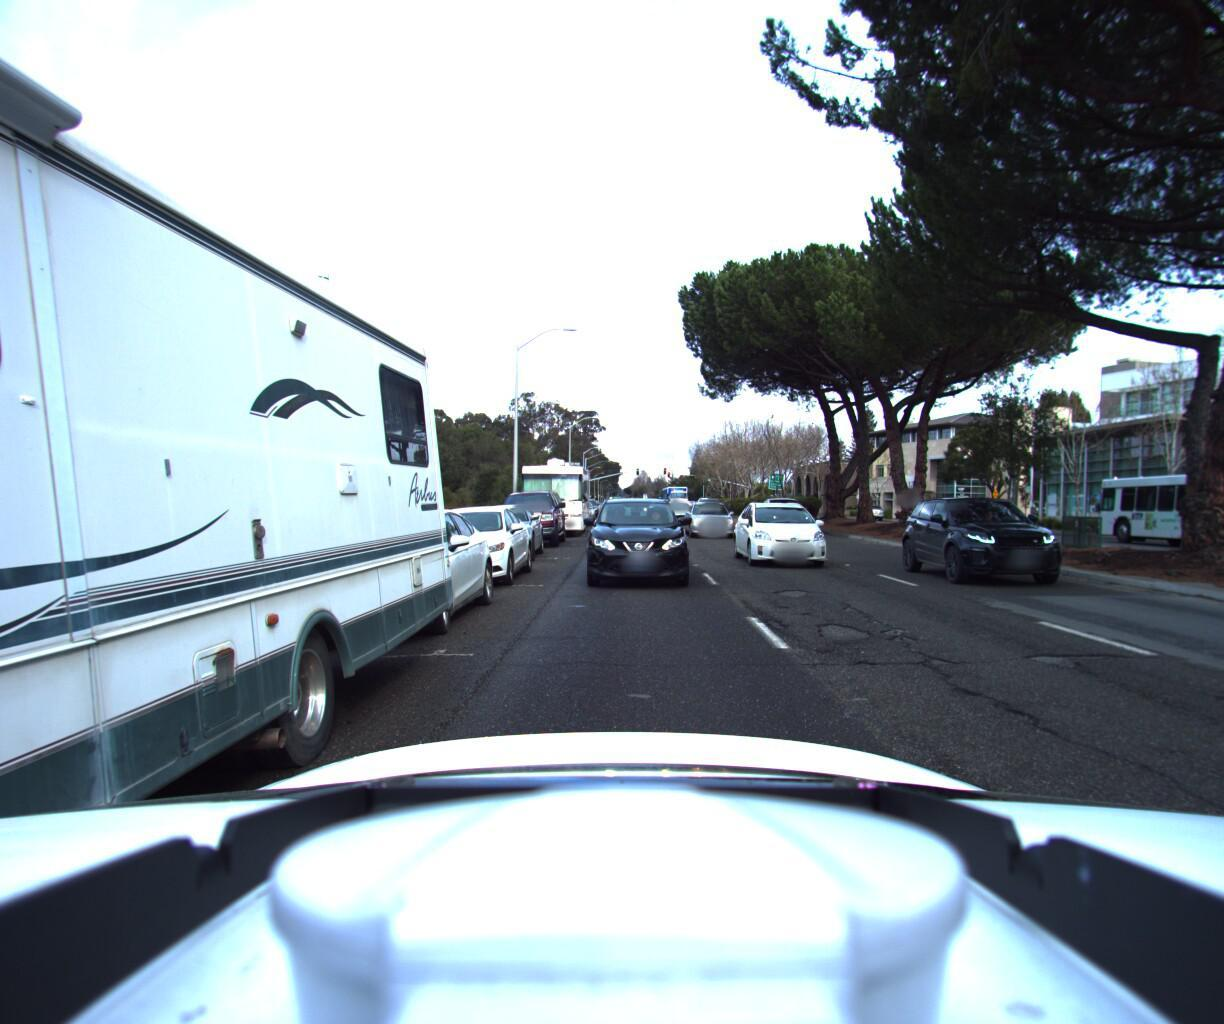bus: (1066, 466, 1224, 554)
car: (244, 501, 498, 649), (913, 497, 1125, 601), (390, 500, 533, 592), (582, 496, 693, 595), (733, 499, 854, 578), (453, 500, 543, 564), (487, 487, 564, 550), (682, 499, 741, 542), (759, 497, 821, 536), (668, 500, 705, 528)
truck: (513, 456, 592, 539)
